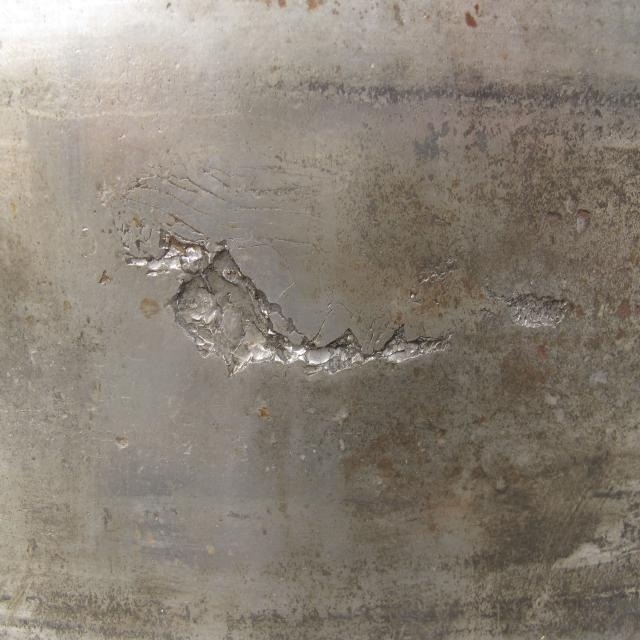Peeling: (166, 253, 370, 368), (120, 216, 203, 267), (490, 287, 577, 333), (375, 323, 455, 367), (568, 207, 592, 236), (116, 433, 131, 454), (98, 270, 114, 288)
